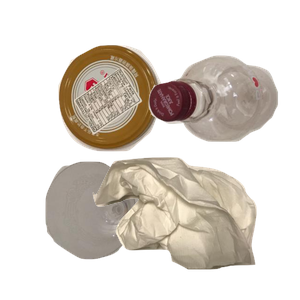glass: (43, 159, 187, 300)
metal: (56, 43, 211, 187)
plastic: (146, 53, 300, 187)
trash: (90, 155, 300, 300)
